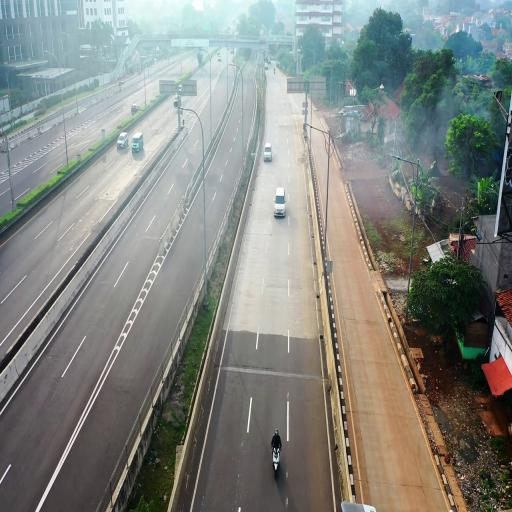vehicle: (274, 190, 287, 218), (116, 132, 130, 152), (132, 135, 144, 158), (263, 144, 274, 164)
